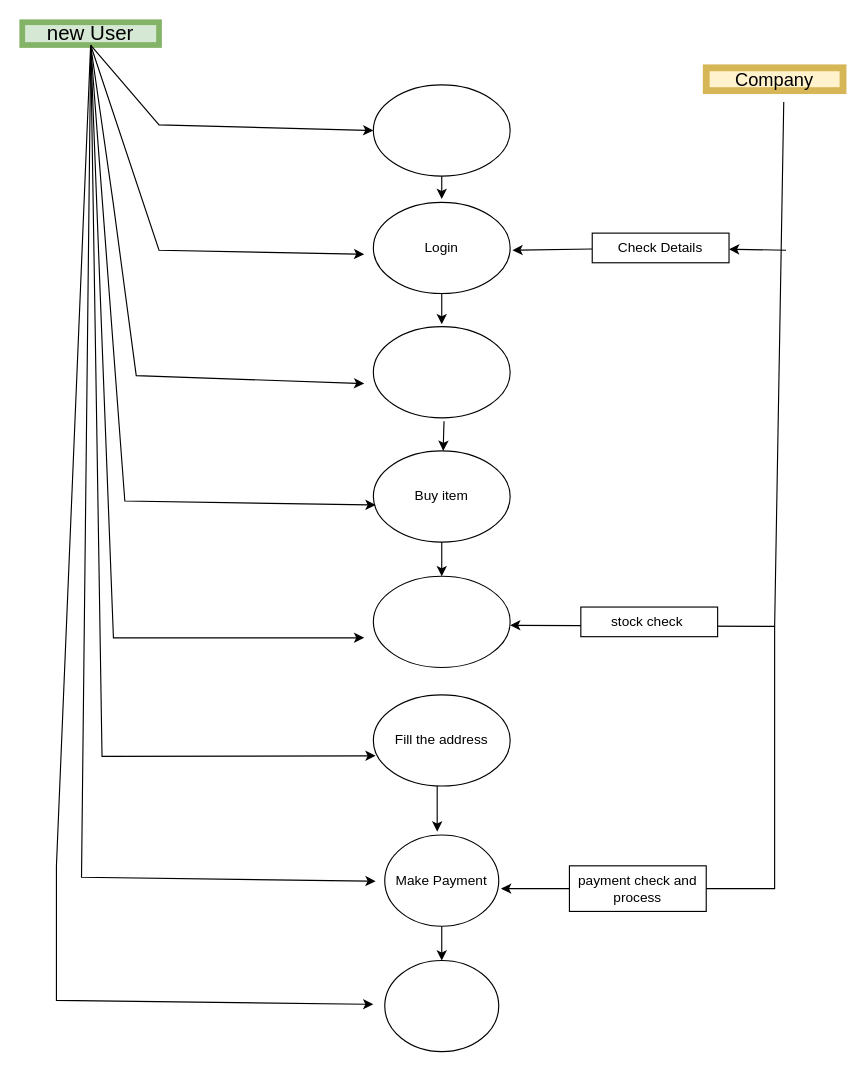
This 866x1072 diagram has some shape labels left out. The shapes that lost their labels are listed below. From the top down, each one's box as (x1, y1, x2, y2) in pixels, then its label:
(372, 84, 510, 176): Registration
(372, 325, 510, 418): search item
(372, 575, 510, 667): Make order
(384, 959, 499, 1052): Cancel Order
